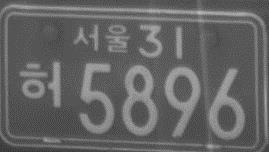1: (171, 25, 188, 60)
3: (137, 21, 164, 58)
5: (79, 60, 117, 136)
6: (208, 66, 247, 140)
8: (121, 63, 159, 137)
9: (164, 63, 203, 141)
서울_O: (73, 22, 130, 55)
허: (19, 60, 64, 111)
